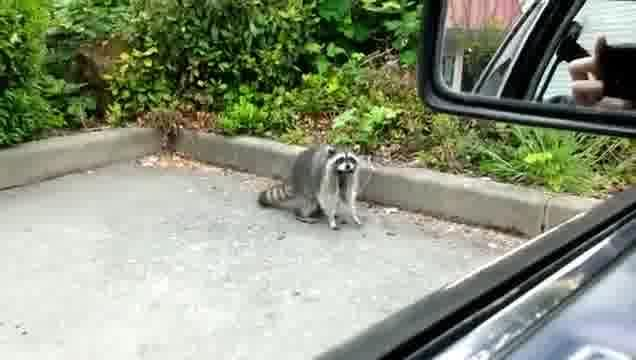raccoon: (253, 145, 367, 234)
